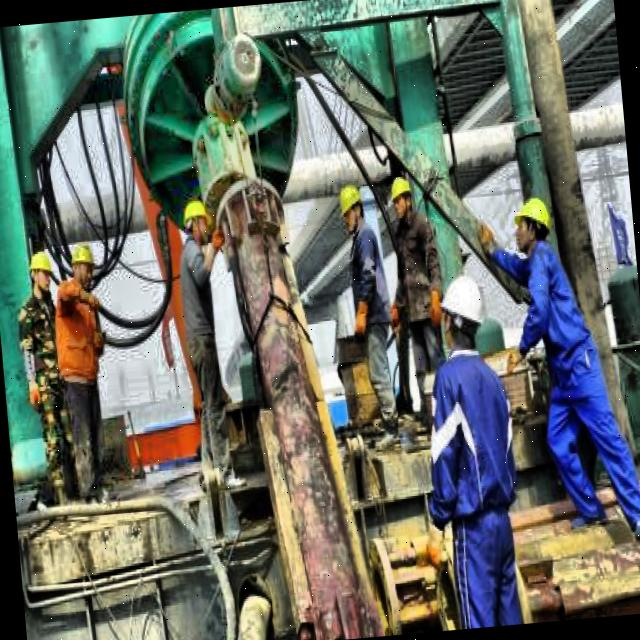helmet: (436, 268, 486, 355), (511, 190, 553, 254), (336, 175, 368, 238), (178, 193, 214, 247), (67, 234, 99, 292), (22, 240, 54, 296), (384, 172, 415, 224)
